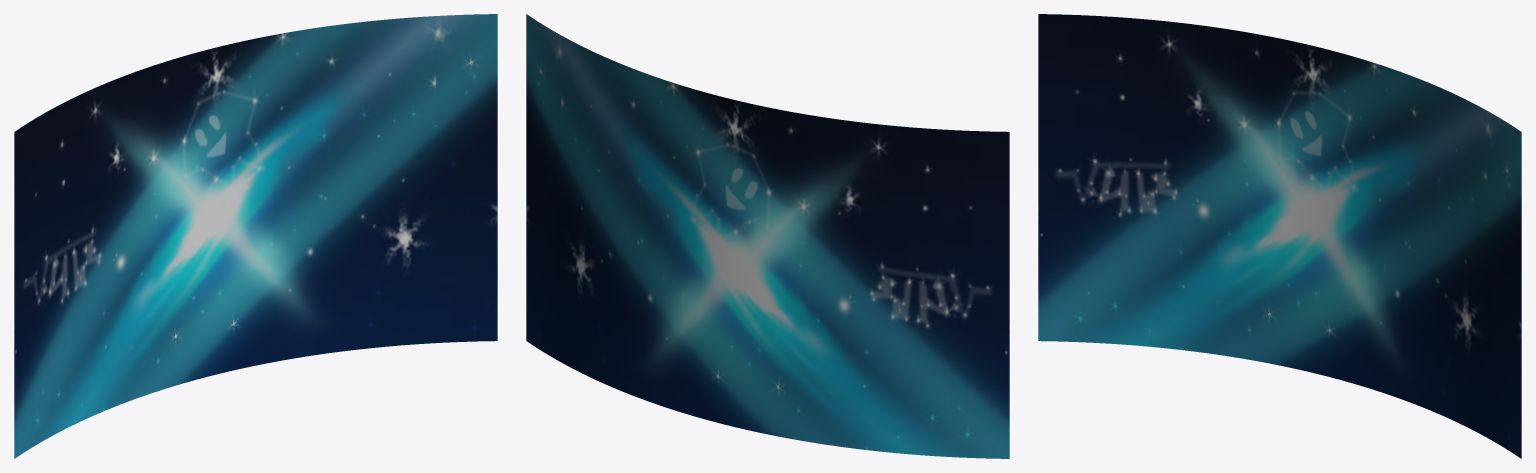
File: Background screen_Treadmillgame.FBX
3 views of the same model, side by side, from view 1: azimuth 30°, elevation 25°; view 2: azimuth 150°, elevation 25°; view 3: azimuth 330°, elevation 25° (orthographic).
Visible parts, largest first — view 1: Plane001; view 2: Plane001; view 3: Plane001.
Part boxes in pixels (x1,y1,x2,y2): Plane001: [14, 14, 497, 458]; Plane001: [526, 14, 1009, 458]; Plane001: [1038, 14, 1521, 458].
Size of the model in its own units: 668 by 432 by 86.25.
Materials: 1 (1 with a texture image).
